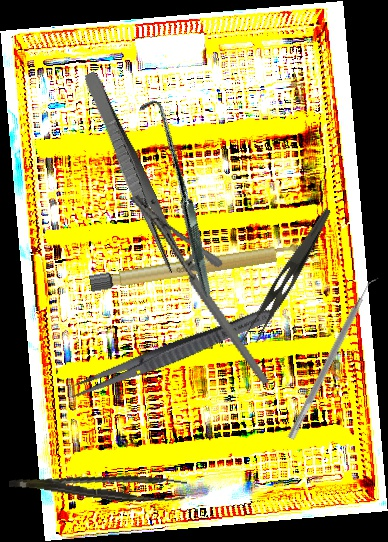Dressing Forceps: (77, 69, 189, 275), (66, 302, 278, 405), (237, 199, 333, 353)
Hook Surgical: (77, 95, 276, 299)
Needle Holder: (127, 174, 271, 406)
Scalpel Handle: (88, 240, 309, 294)
Spatula Surgical: (287, 272, 382, 444)
Tissue Forceps: (8, 456, 188, 512)
